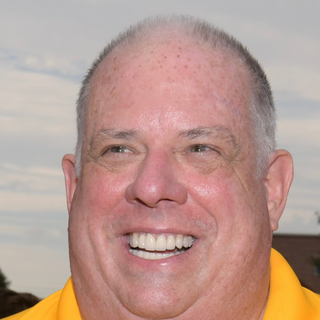eye: (96, 134, 149, 168), (177, 135, 227, 166)
